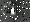person: (4, 3, 11, 18), (11, 7, 17, 16)
